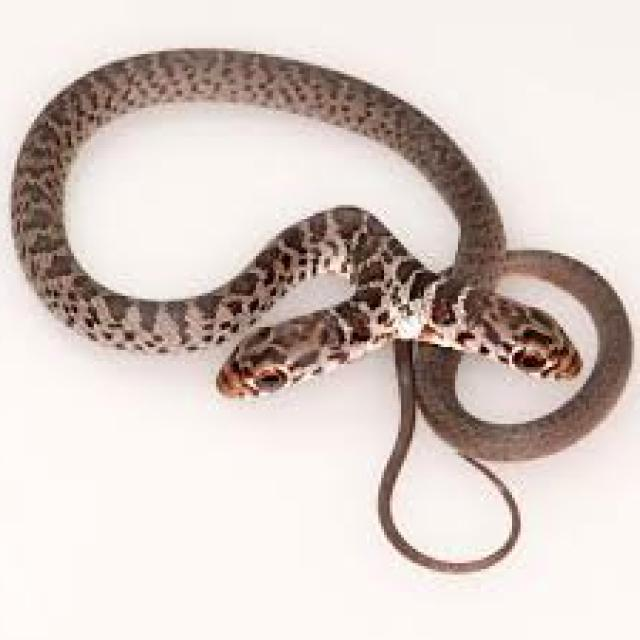snake: (14, 48, 634, 572)
